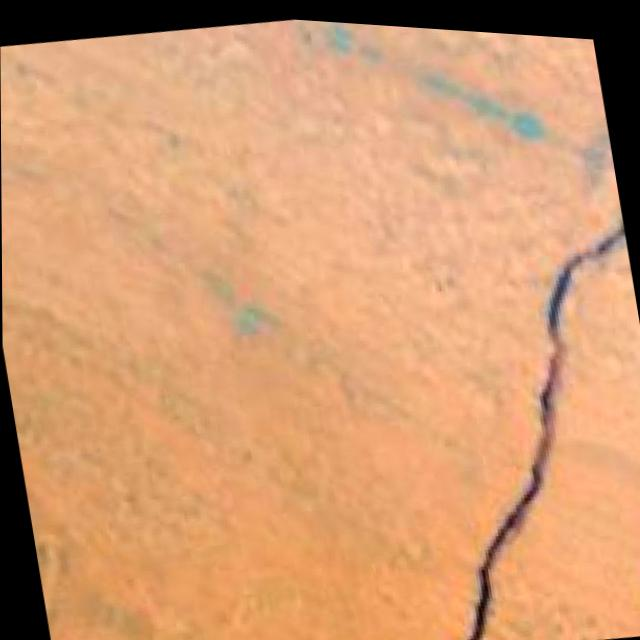Crack: (366, 65, 640, 640)
